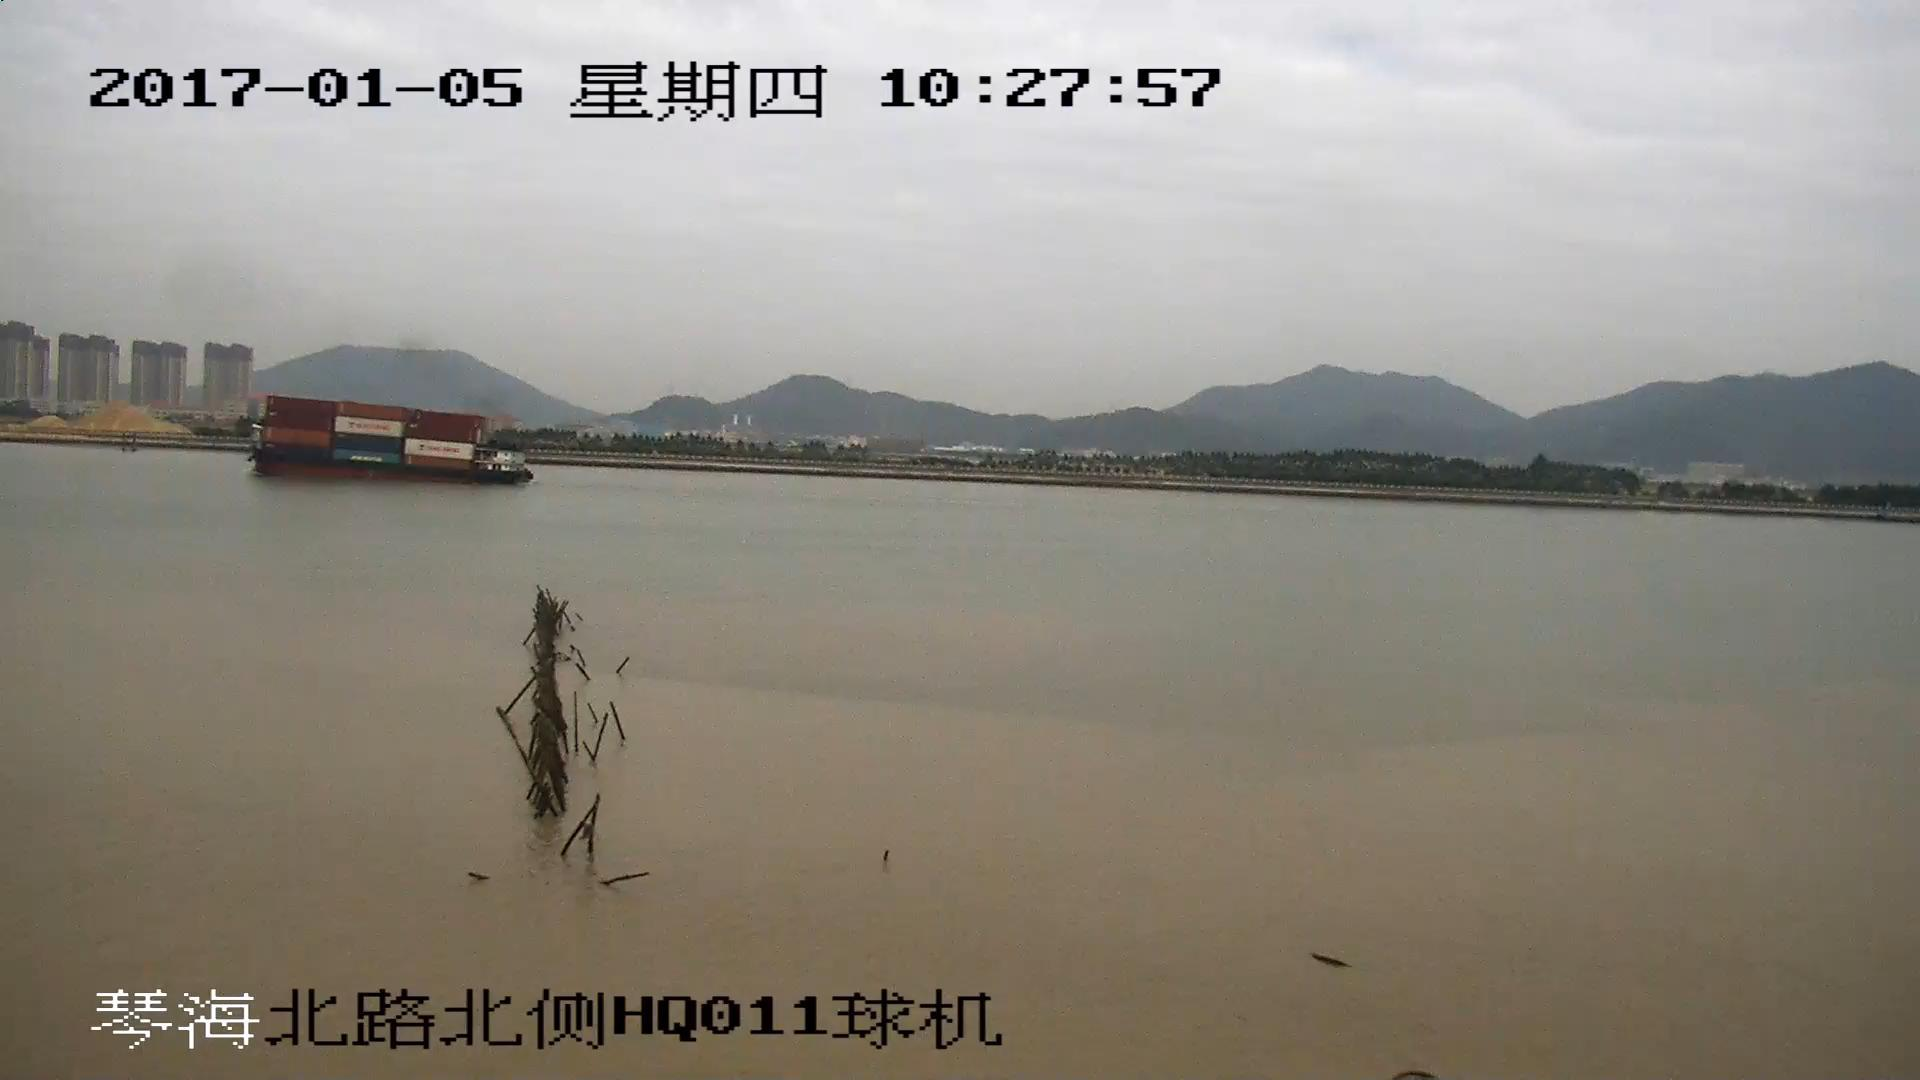Ship: (247, 396, 529, 483)
